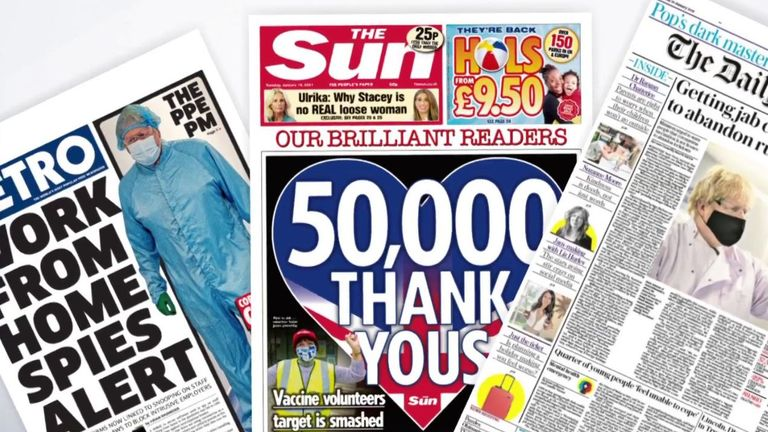news_paper: (214, 3, 663, 432), (442, 2, 768, 429)
